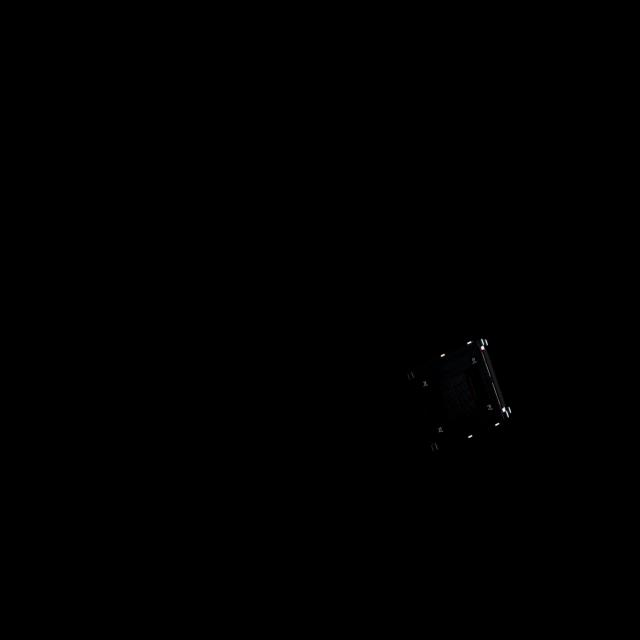medium_debris: (396, 328, 513, 461)
